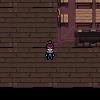Hide: (73, 29, 100, 47)
Obstacle: (53, 8, 74, 28), (74, 8, 94, 28), (94, 8, 100, 28)
Victim: (44, 39, 55, 60)
